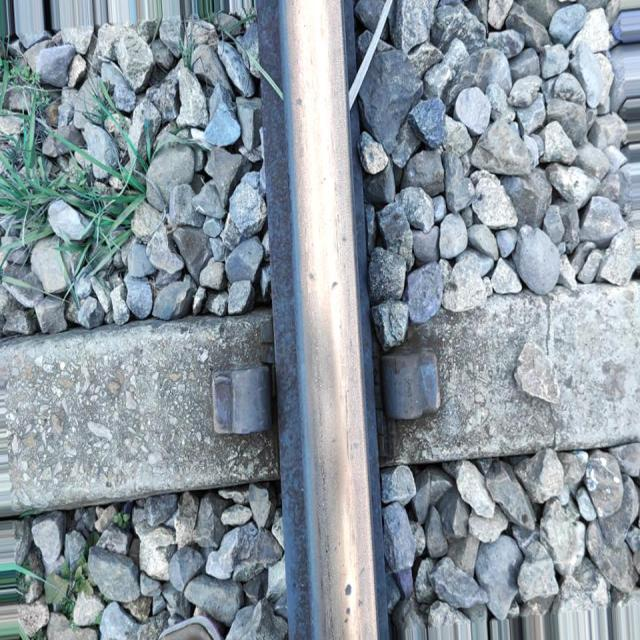Missing Fastener: (367, 334, 490, 441), (187, 358, 289, 459)
